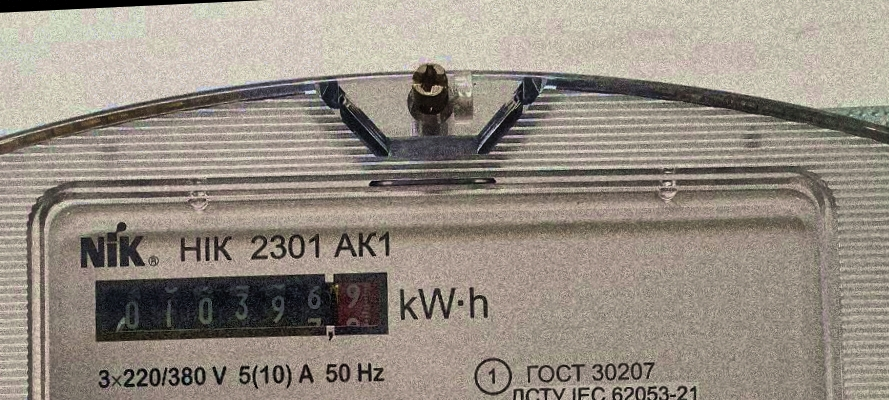0: (193, 293, 216, 327), (120, 296, 141, 330)
1: (161, 295, 175, 328)
3: (231, 289, 251, 323)
6: (302, 281, 325, 311)
9: (266, 291, 287, 325), (340, 281, 363, 312)
screen: (77, 253, 400, 362)
